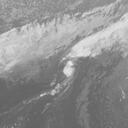cyclone: (56, 56, 77, 81)
